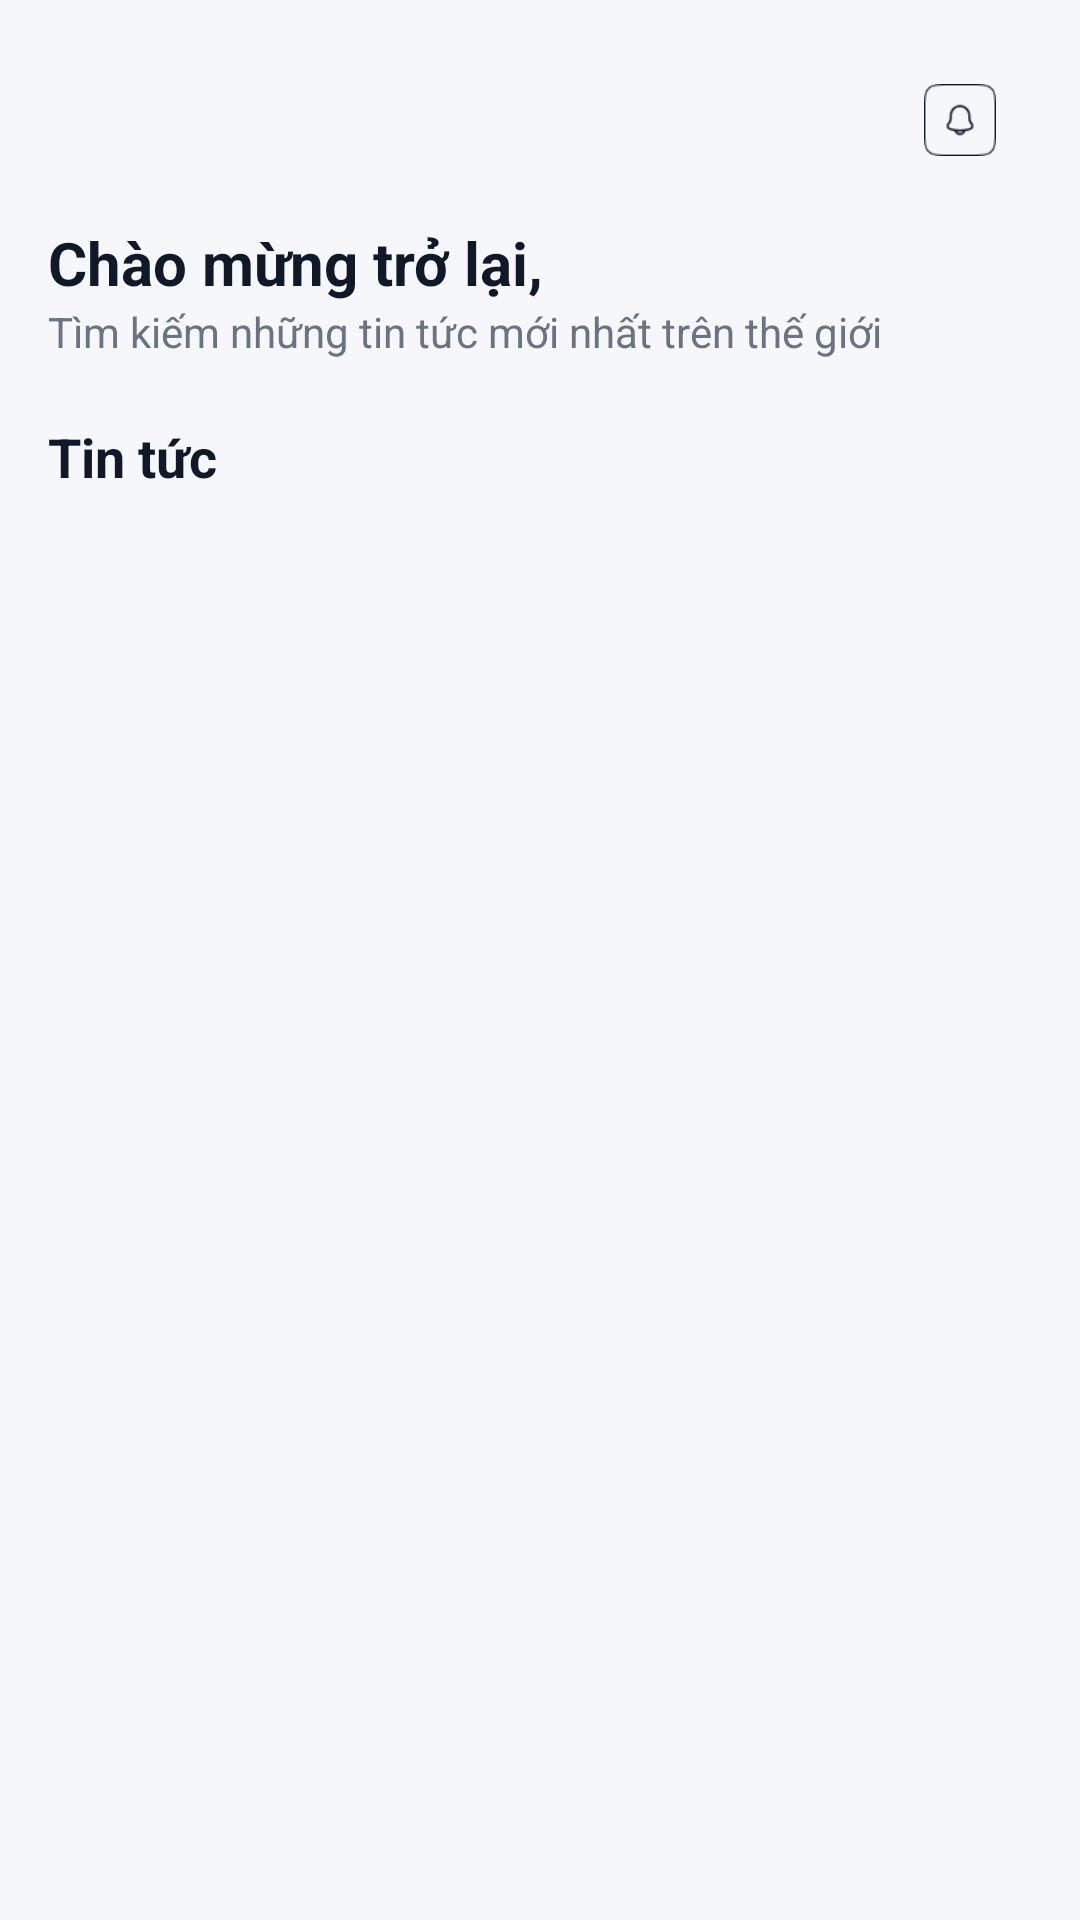

Named icons in this screenshot (1080px×1920px) and their bounding boxes, box=[x1, y1, x2, y2]:
bell: box=[924, 84, 996, 156]
